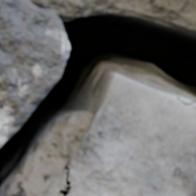brick: (70, 75, 195, 195), (0, 0, 69, 146), (47, 171, 66, 195)
crack: (0, 0, 195, 194), (57, 160, 72, 195)
